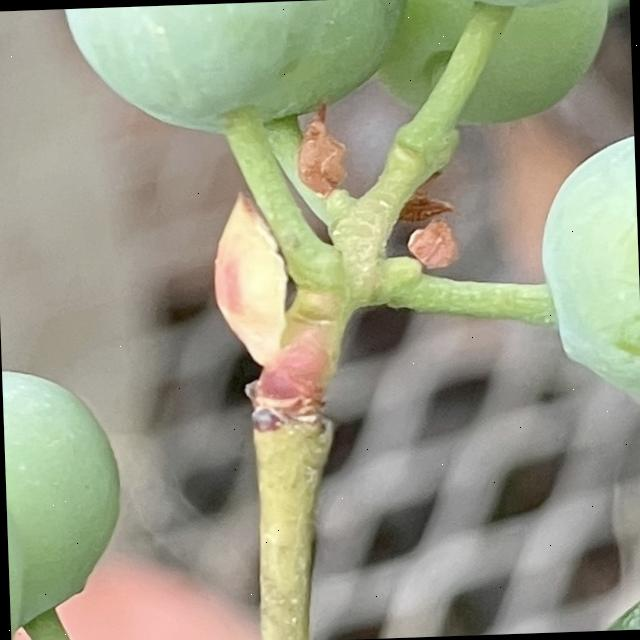Blueberries: (32, 0, 345, 134), (532, 121, 640, 411)
